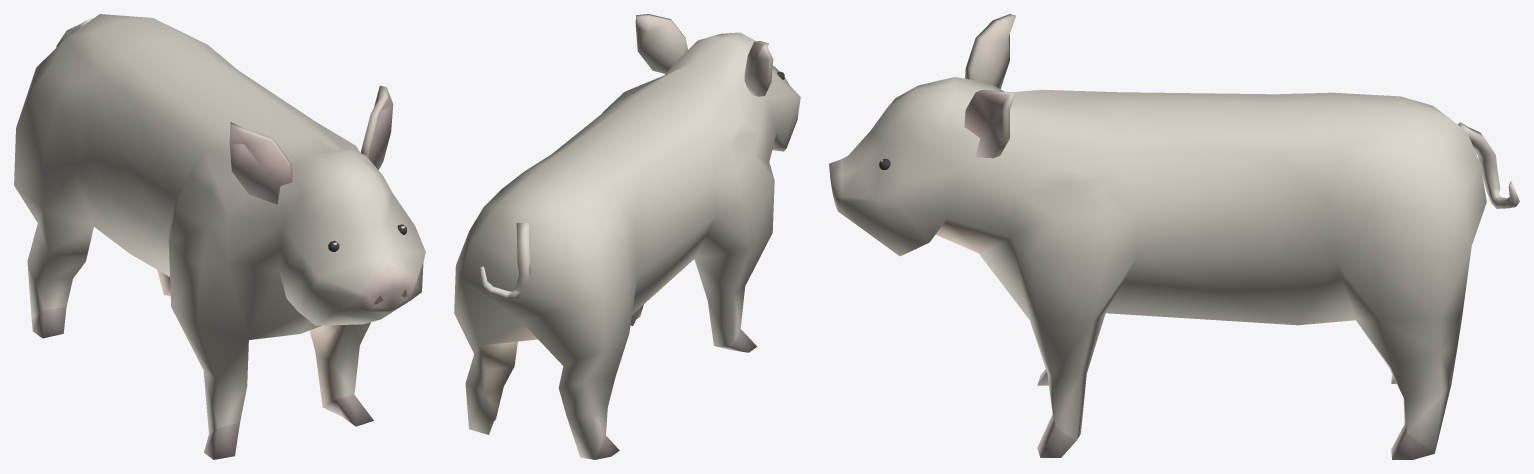
Rendered from Pig.glb.
The picture shows the model from 3 angles, left to right: view 1: azimuth 30°, elevation 25°; view 2: azimuth 150°, elevation 25°; view 3: azimuth 270°, elevation 25°; orthographic projection. The views are drawn at different scales.
Parts seen in each view (by area): view 1: Pig.001; view 2: Pig.001; view 3: Pig.001.
Boxes of the visible parts, x1,y1,x2,y2 form: Pig.001: (14,14,425,459); Pig.001: (454,14,800,459); Pig.001: (829,14,1519,459).
Size of the model in its own units: 0.4093 by 0.6978 by 1.19.
